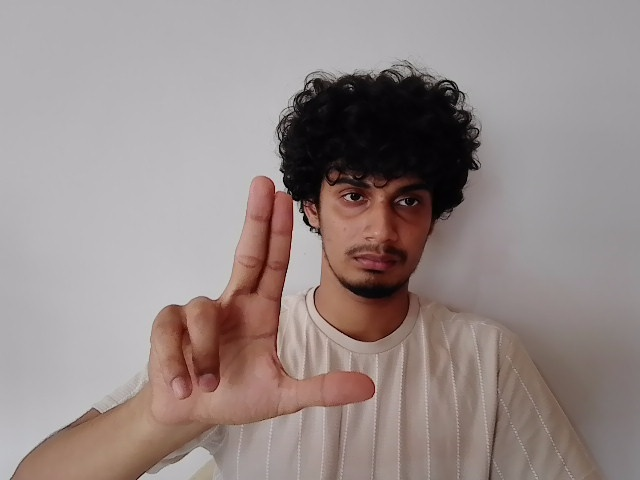no: (143, 180, 382, 436)
